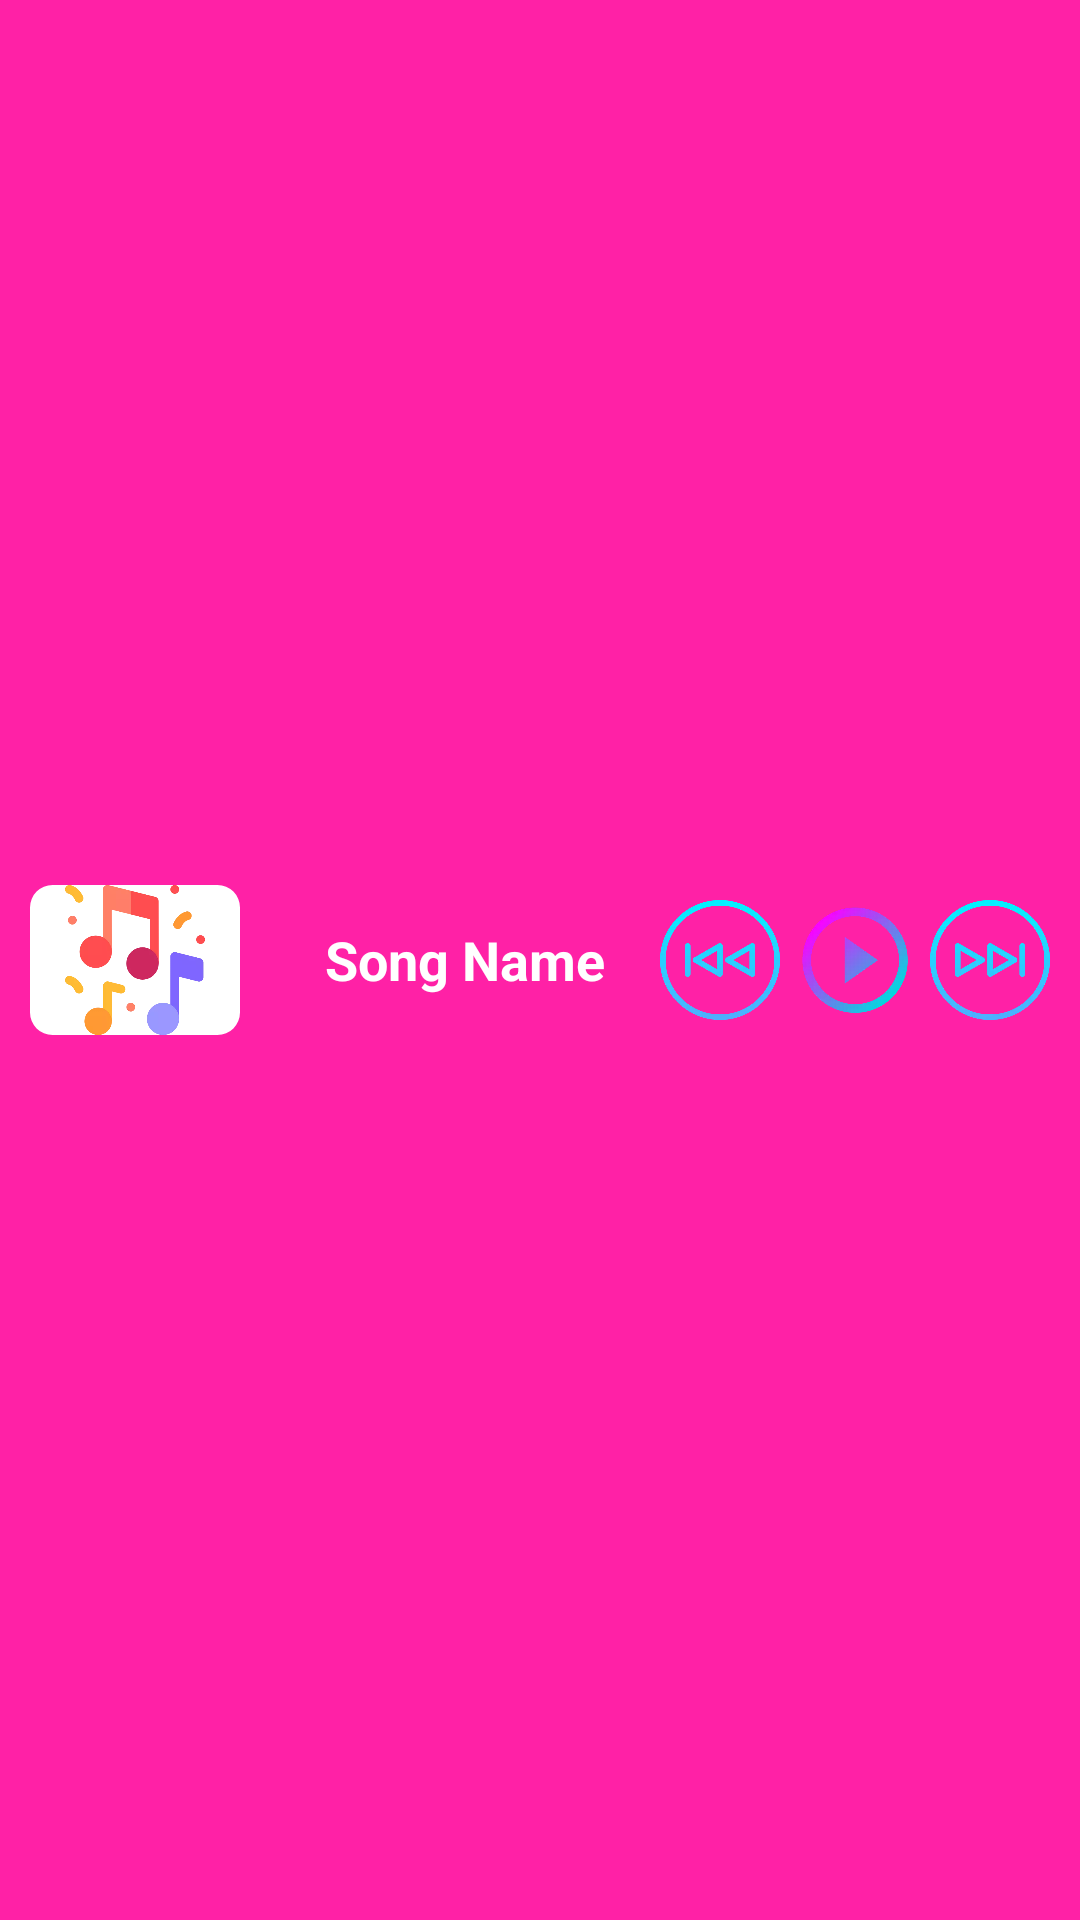

Named icons in this screenshot (1080w x 1920h) and their centers, (x=x, y=y):
Next Song: (x=990, y=960)
Play / Pause Button: (x=855, y=960)
Previous Song: (x=720, y=960)
